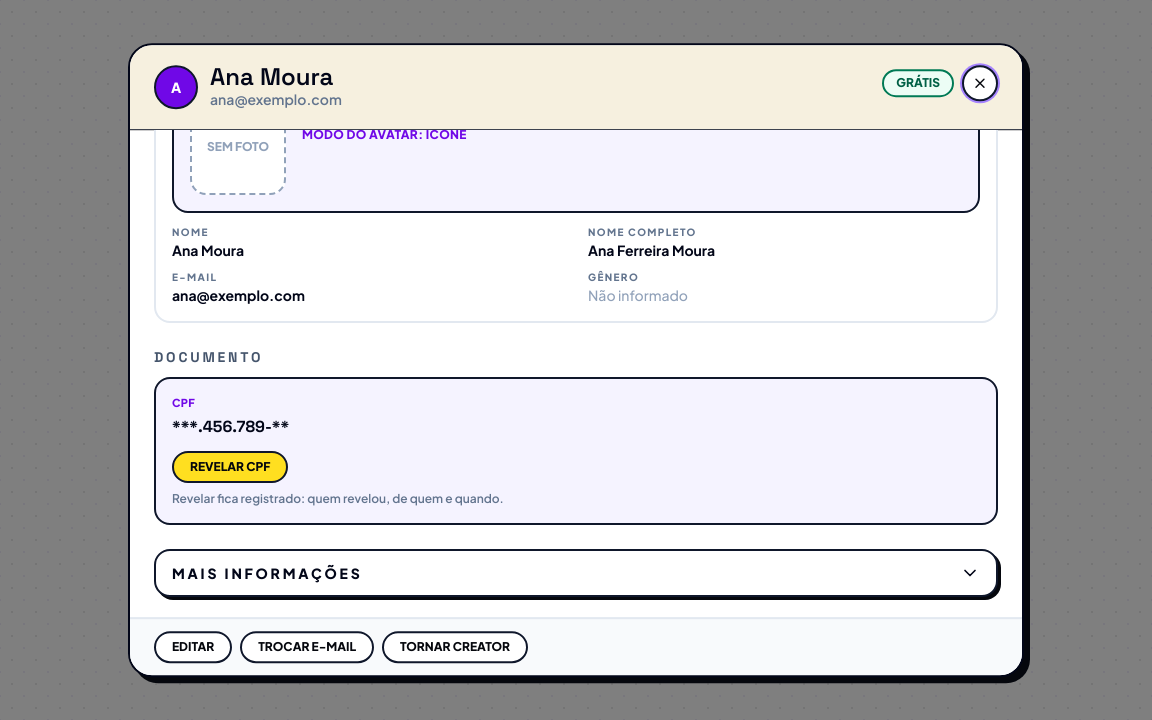
Test: campo vazio usa a prop explicita, nao o texto › um opt-in recusado (false) NAO e tratado como campo vazio
This screenshot has width=1152, height=720.
(page scrolled)
Click the button "Mais informações" at (267,573), box [154,549,998,597]
(page scrolled)
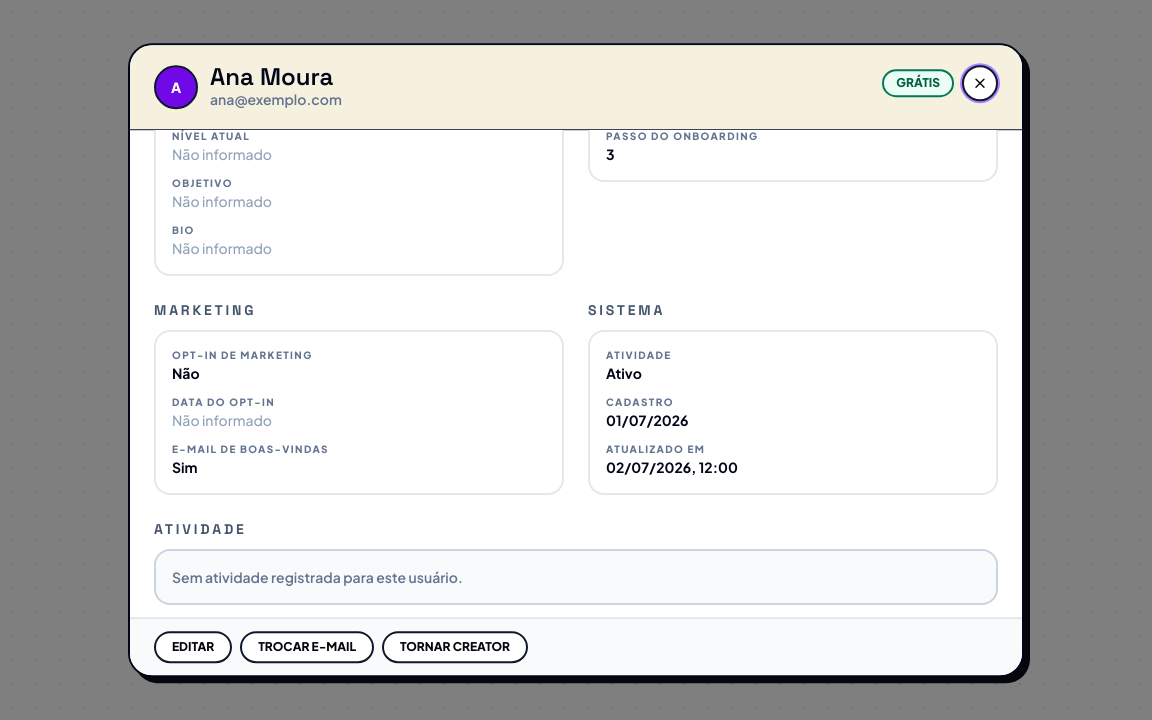
Expected: the text "Opt-in de marketing" is shown, [172,349,313,361]
